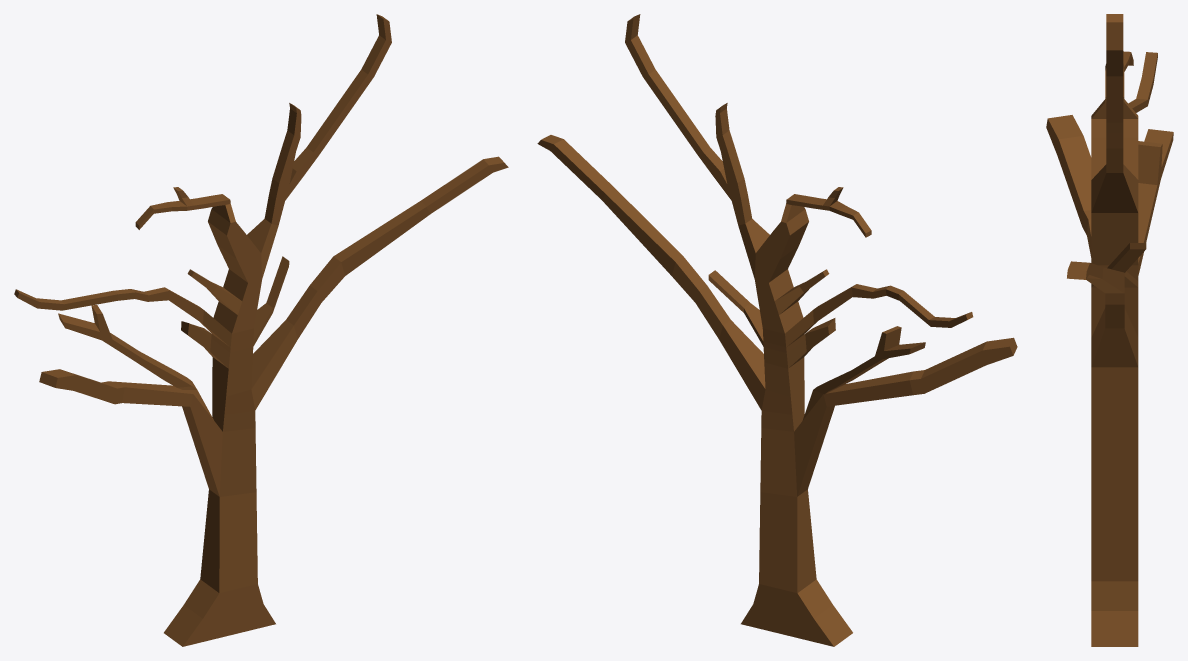
Rendered from Arvore Seca.fbx.
3 renders of one model, left to right at view 1: azimuth 30°, elevation 25°; view 2: azimuth 150°, elevation 25°; view 3: azimuth 270°, elevation 25°, orthographic. The views are drawn at different scales.
Visible parts, largest first — view 1: ArbustoSeco; view 2: ArbustoSeco; view 3: ArbustoSeco.
Boxes of the visible parts, left/top/right/bottom form: ArbustoSeco: left=14, top=14, right=508, bottom=646; ArbustoSeco: left=537, top=14, right=1017, bottom=646; ArbustoSeco: left=1046, top=14, right=1173, bottom=646.
Size of the model in its own units: 153 by 178 by 29.42.
